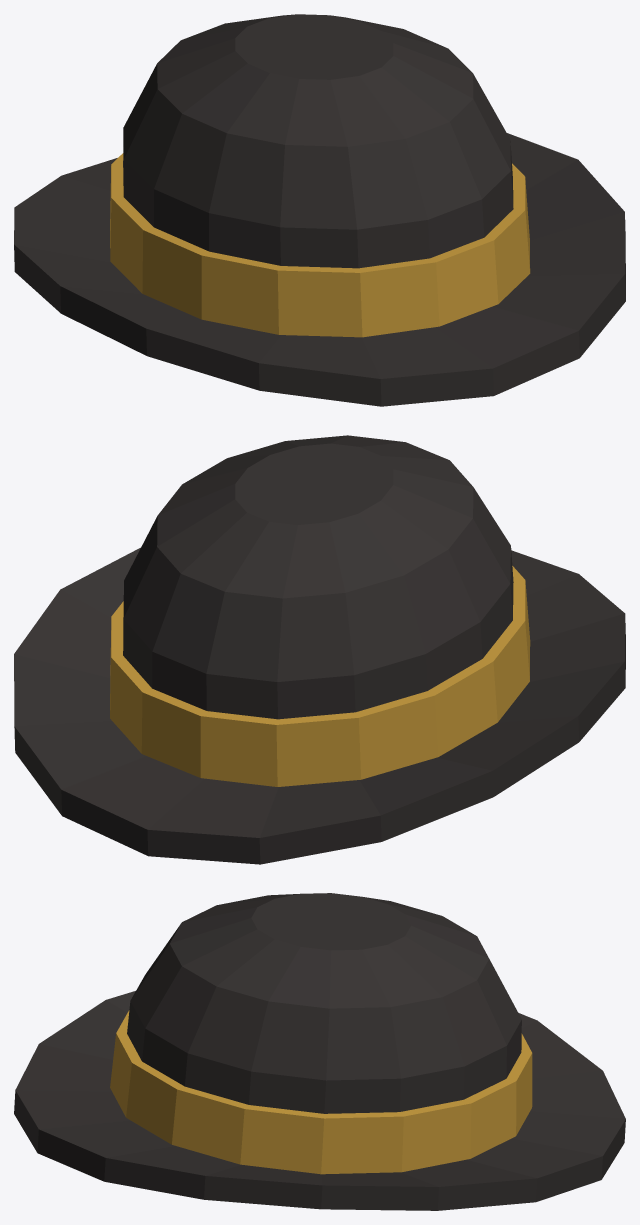
Rendered from SM_Hat_Dynamiter.fbx.
3 renders of one model, top to bottom at view 1: azimuth 30°, elevation 25°; view 2: azimuth 150°, elevation 25°; view 3: azimuth 270°, elevation 25°, orthographic. The views are drawn at different scales.
Parts seen in each view (by area): view 1: Prop_Hat_Dynamiter; view 2: Prop_Hat_Dynamiter; view 3: Prop_Hat_Dynamiter.
Part boxes in pixels (x1,y1,x2,y2): Prop_Hat_Dynamiter: (14, 14, 625, 406); Prop_Hat_Dynamiter: (14, 435, 625, 864); Prop_Hat_Dynamiter: (14, 893, 625, 1210).
Size of the model in its own units: 32.48 by 37.62 by 15.26.
